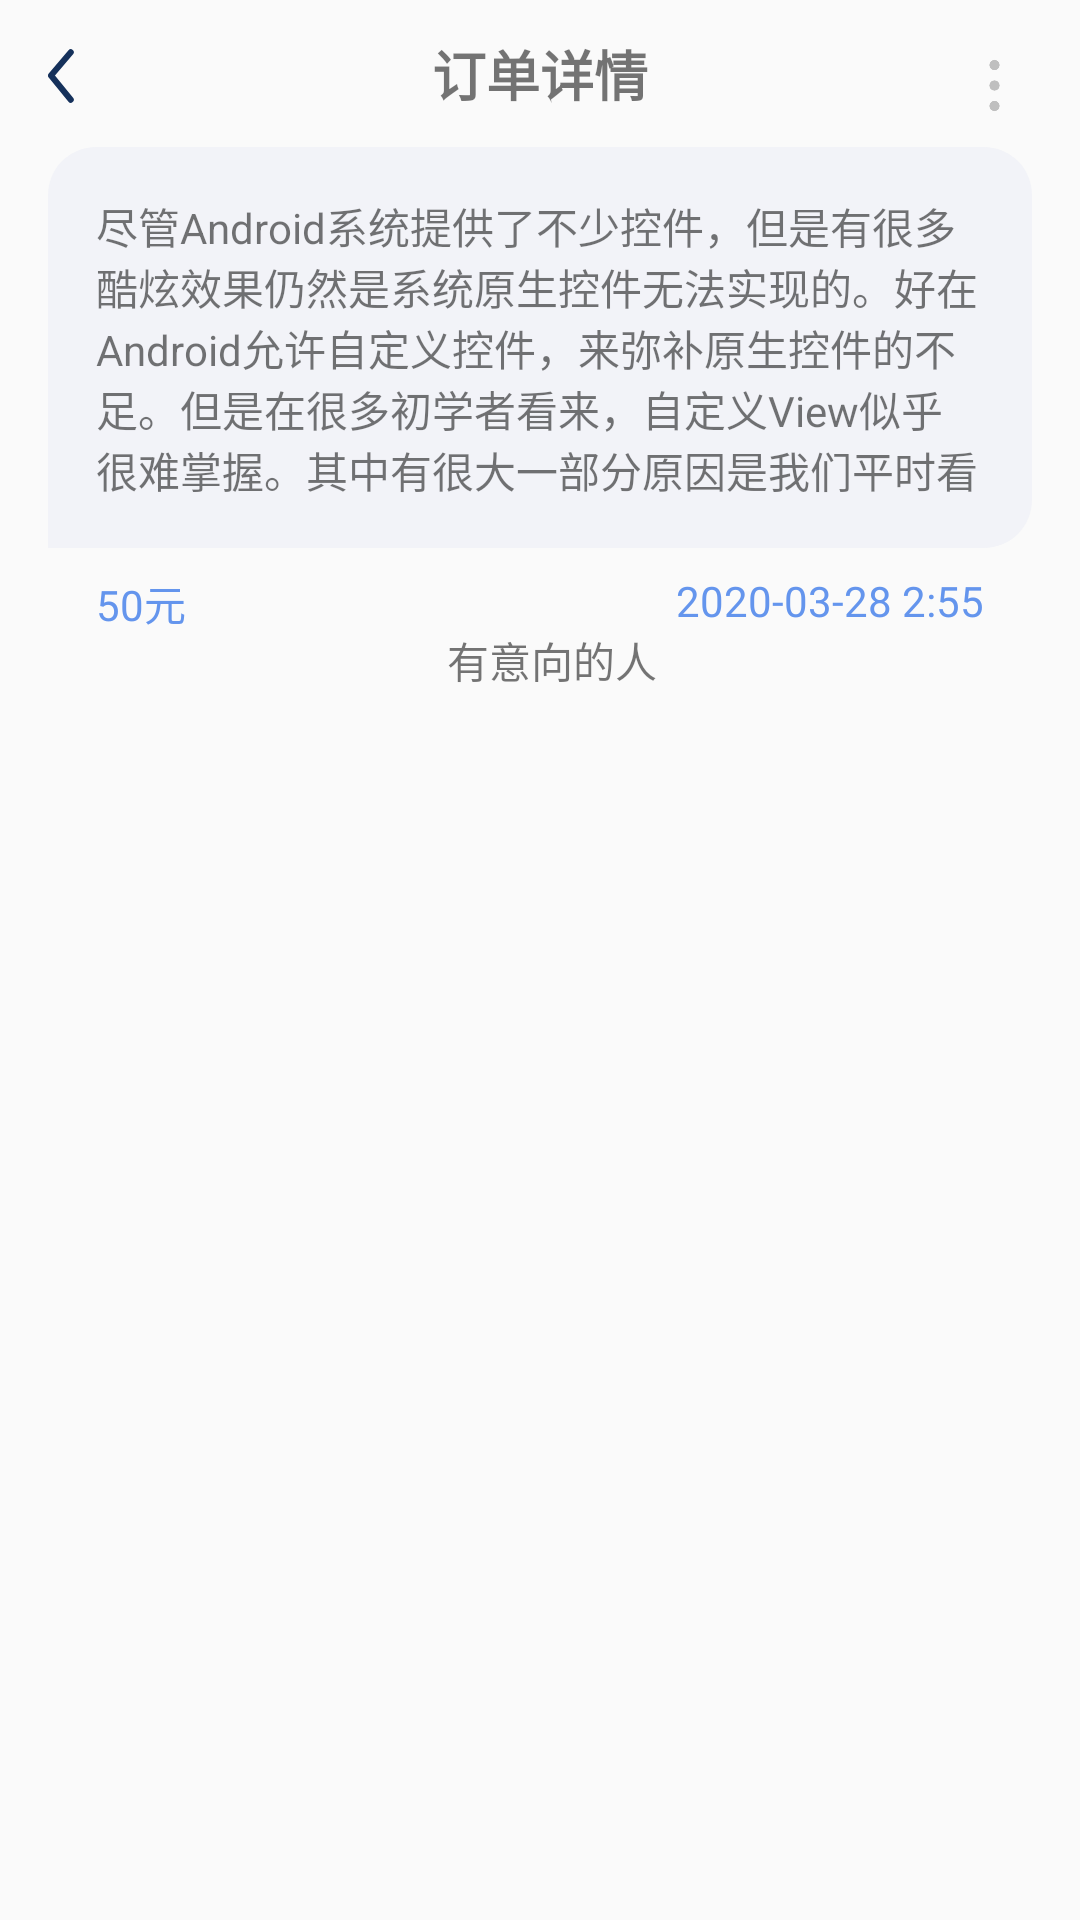

Screen size 1080 × 1920. Icon name, then its center in pixels as point (x, y):
feature detail extra: point (994, 85)
